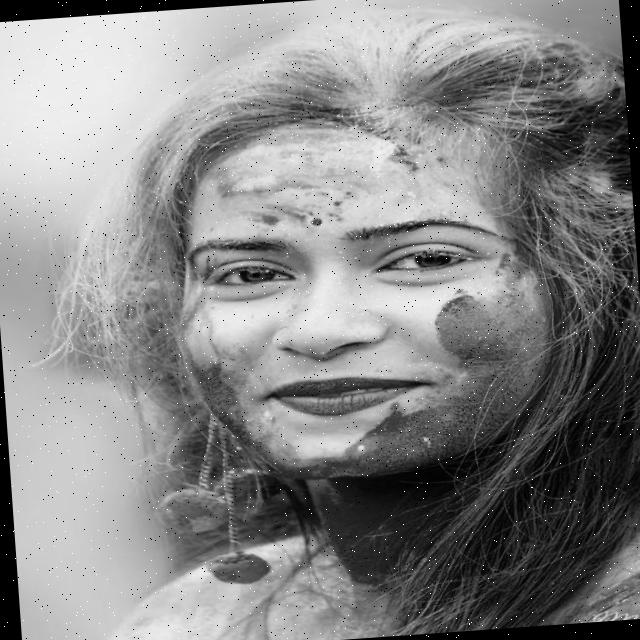Happiness: (160, 99, 570, 495)
